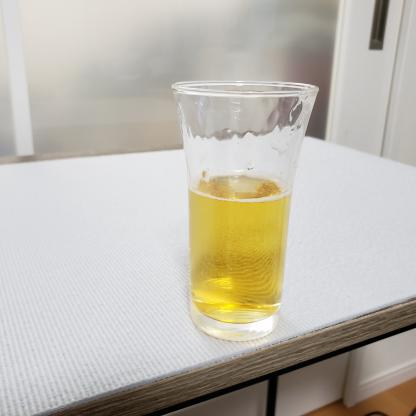glass: (167, 66, 323, 352)
